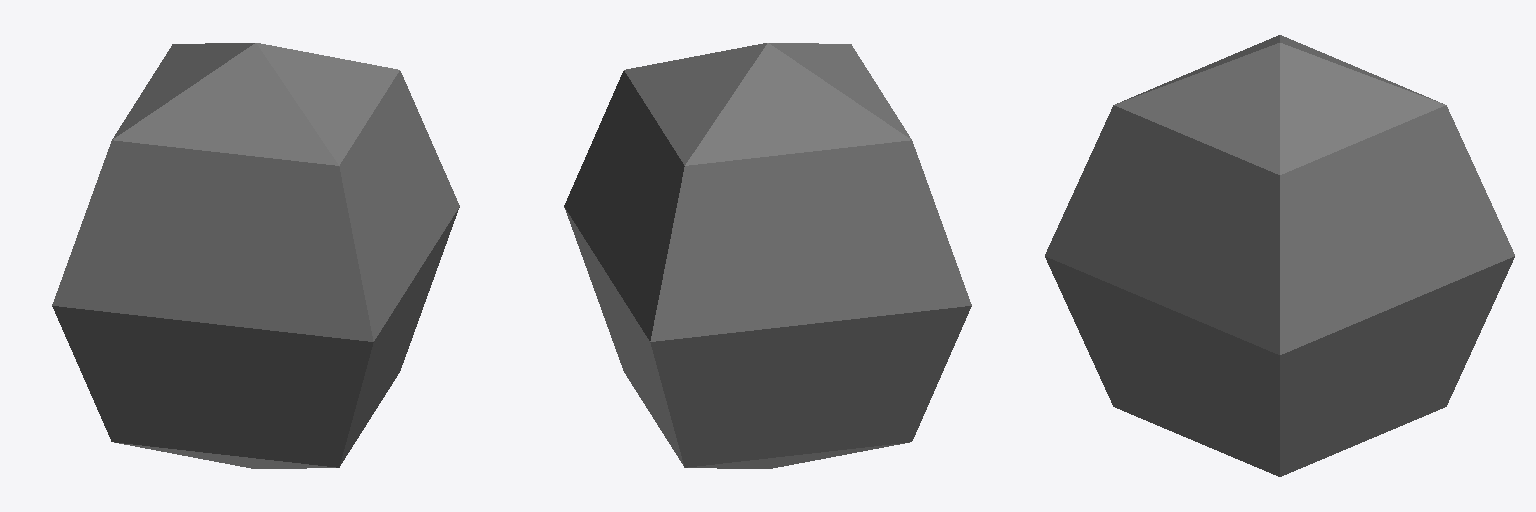
File: squash_2.obj
The picture shows the model from 3 angles: view 1: azimuth 30°, elevation 25°; view 2: azimuth 150°, elevation 25°; view 3: azimuth 270°, elevation 25°; orthographic projection.
Parts seen in each view (by area): view 1: Sphere_Sphere.001; view 2: Sphere_Sphere.001; view 3: Sphere_Sphere.001.
Part boxes in pixels (bbox=[...]): Sphere_Sphere.001: bbox=[52, 43, 459, 468]; Sphere_Sphere.001: bbox=[564, 43, 971, 468]; Sphere_Sphere.001: bbox=[1045, 35, 1514, 476].
Size of the model in its own units: 2 by 2 by 2.